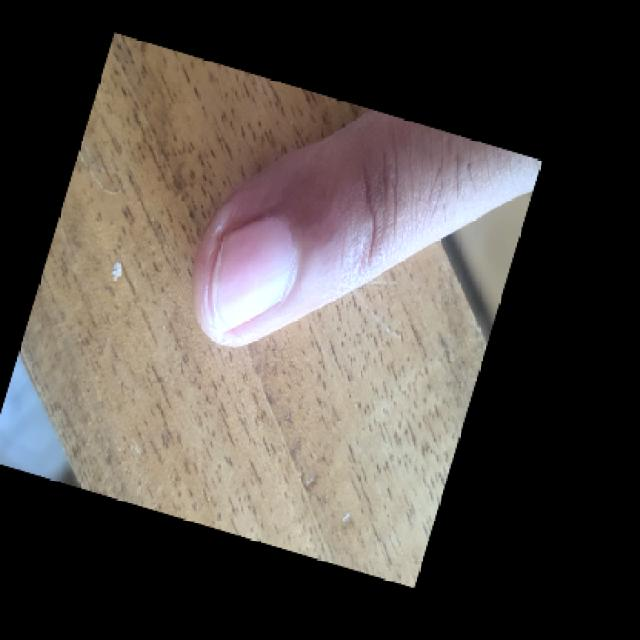Nail: (212, 215, 297, 332)
